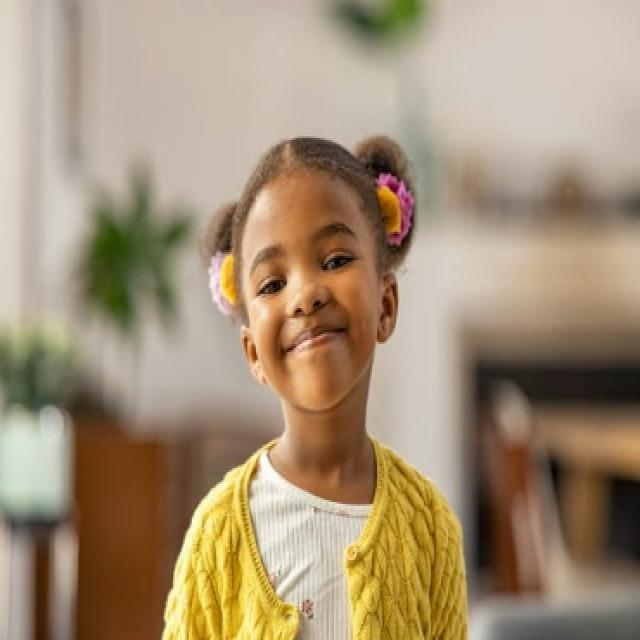child: (160, 131, 473, 640)
